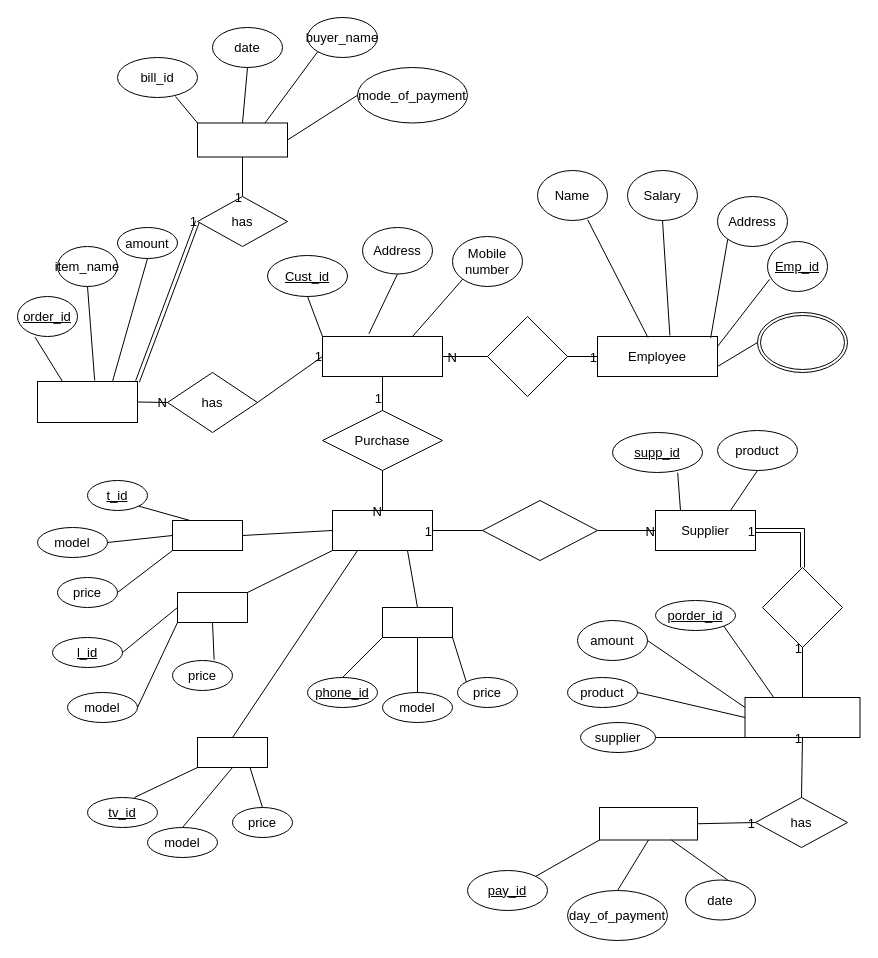
Image size: 878x958. Some labels were removed from this diagram. Here are the shapes that lost their labels. From the top down, the box of each, then its label:
(196, 122, 288, 157): Billing
(322, 336, 442, 376): Customers
(486, 316, 568, 396): Sales
(756, 312, 848, 372): Phone number
(36, 380, 138, 422): Orders
(172, 520, 242, 550): Tablet
(332, 510, 432, 550): Items
(482, 500, 598, 560): Supplies
(176, 592, 248, 622): Laptop
(382, 606, 452, 638): Phone
(762, 566, 842, 648): has many
(744, 696, 860, 738): Purchase Order
(196, 736, 268, 768): TV
(598, 806, 698, 840): Payment
